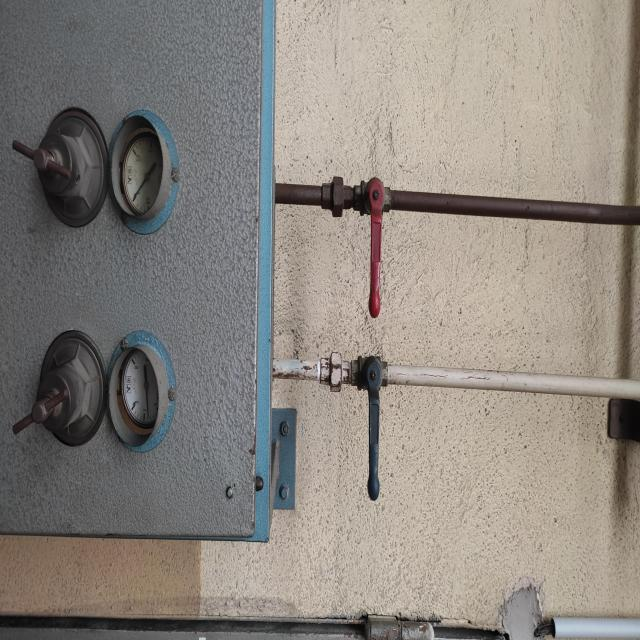closed_valve: (352, 175, 393, 318), (351, 352, 389, 502)
